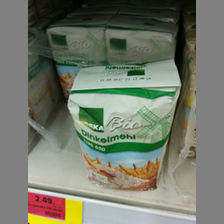flour: (67, 61, 182, 192)
